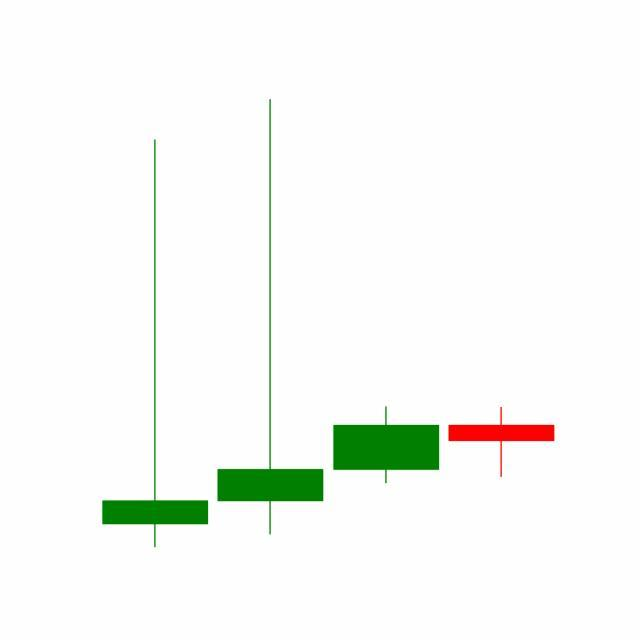Dragonfly Doji: (444, 406, 560, 479)
